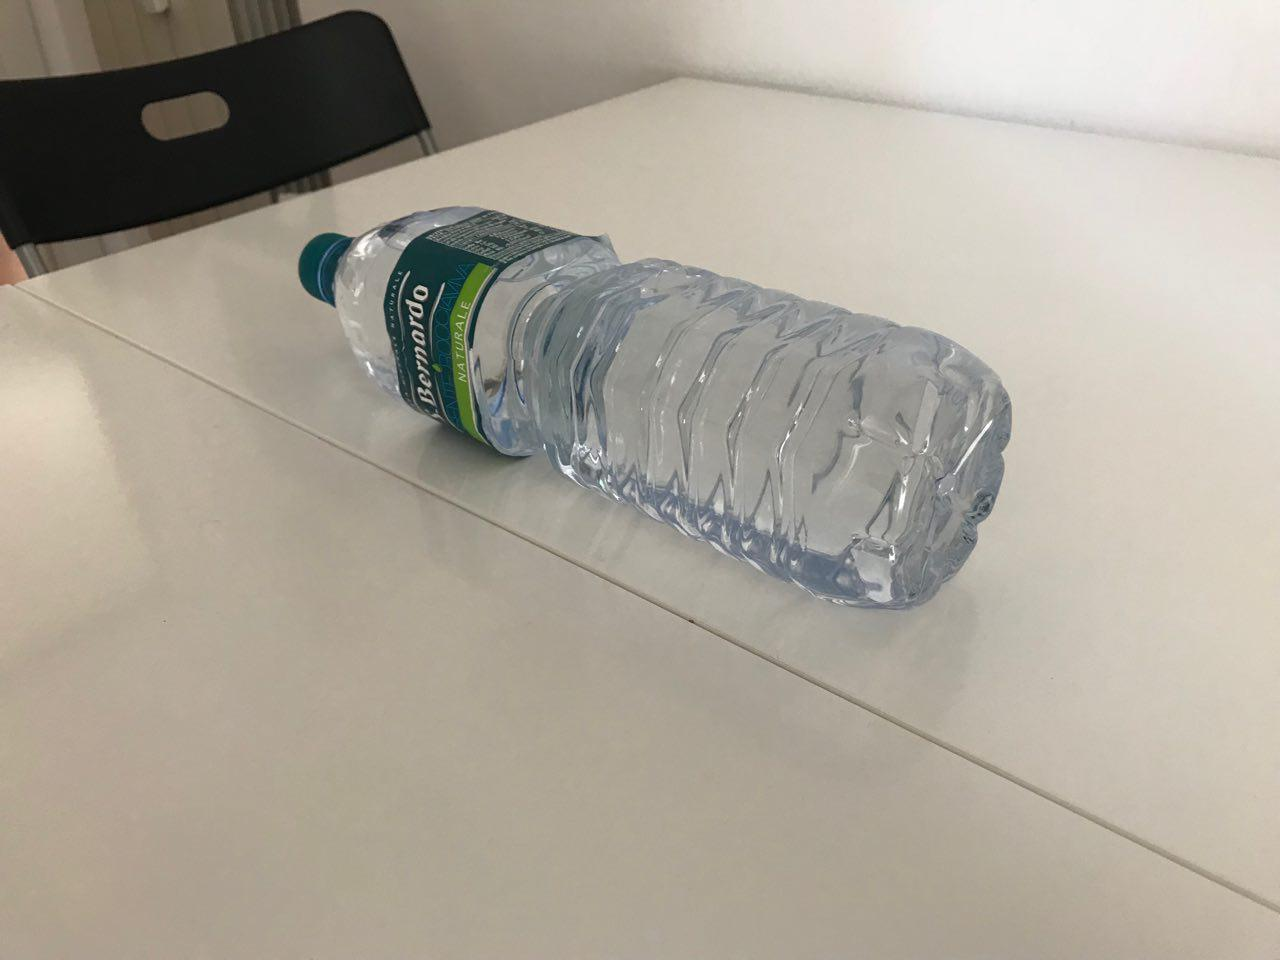san_bernardo: (297, 204, 1013, 613)
